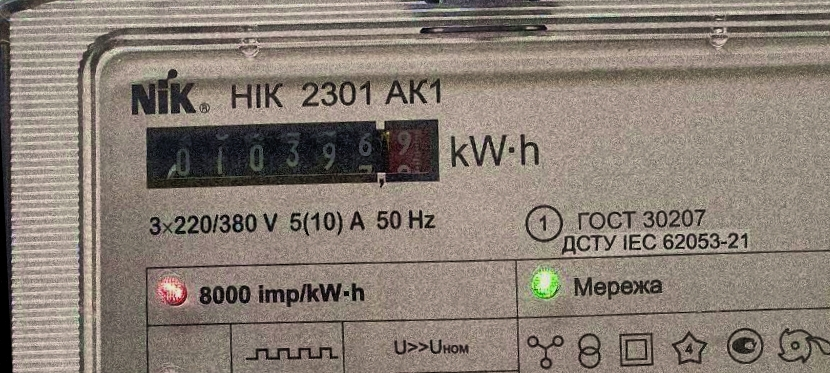0: (243, 140, 267, 174), (170, 144, 192, 178)
1: (211, 142, 226, 176)
3: (282, 136, 302, 170)
6: (353, 129, 375, 159)
9: (316, 139, 338, 173), (391, 128, 413, 159)
screen: (128, 100, 451, 209)
